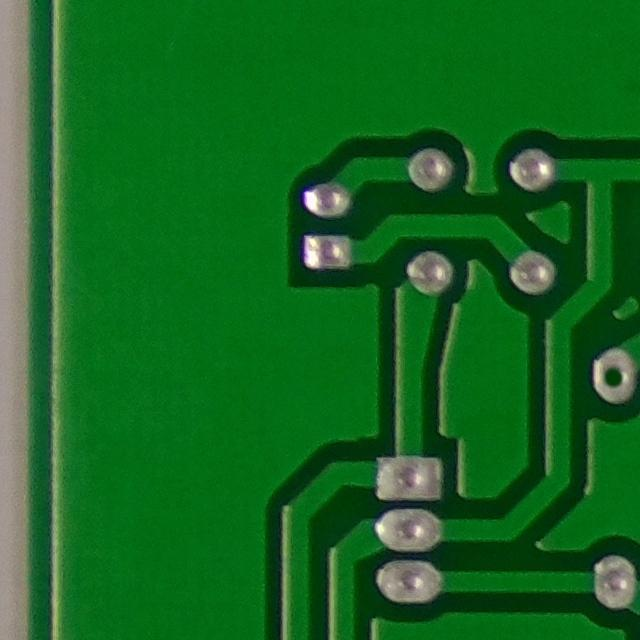missing_hole: (586, 349, 640, 409)
